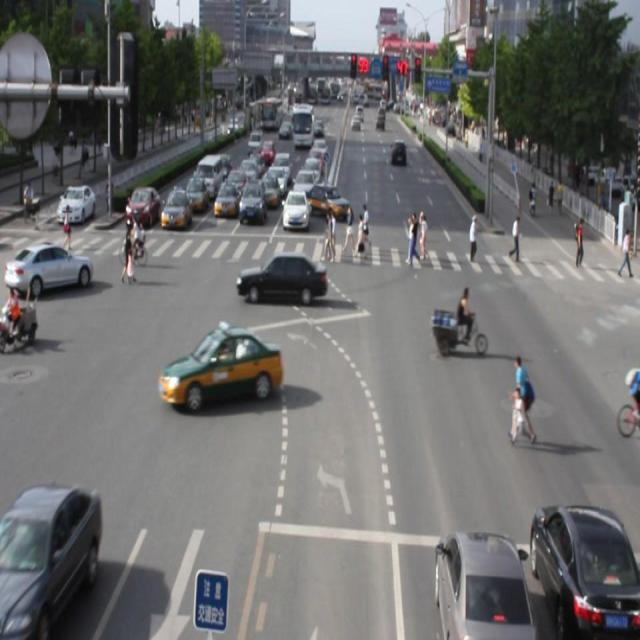car: (523, 495, 640, 640), (1, 480, 102, 632), (429, 524, 530, 640), (160, 329, 284, 409), (236, 250, 330, 308)
